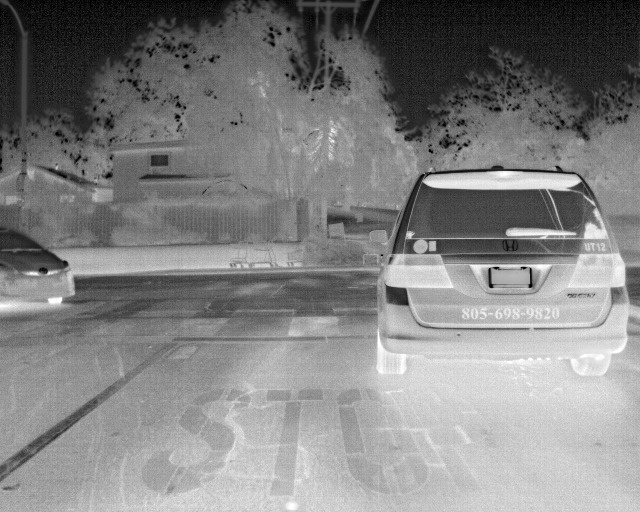vehicle: (369, 164, 636, 383), (1, 216, 80, 325)
